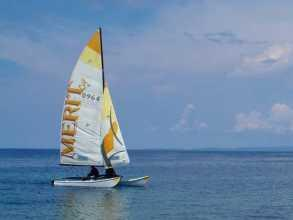fanchuan: (50, 26, 155, 191)
